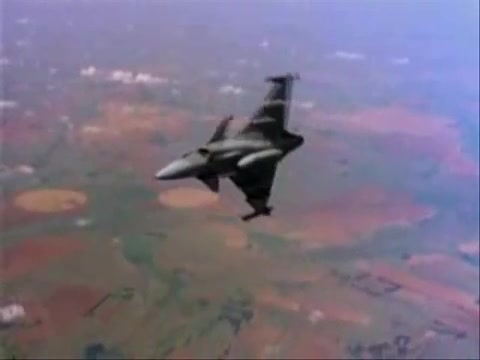aeroplane: (155, 71, 308, 224)
